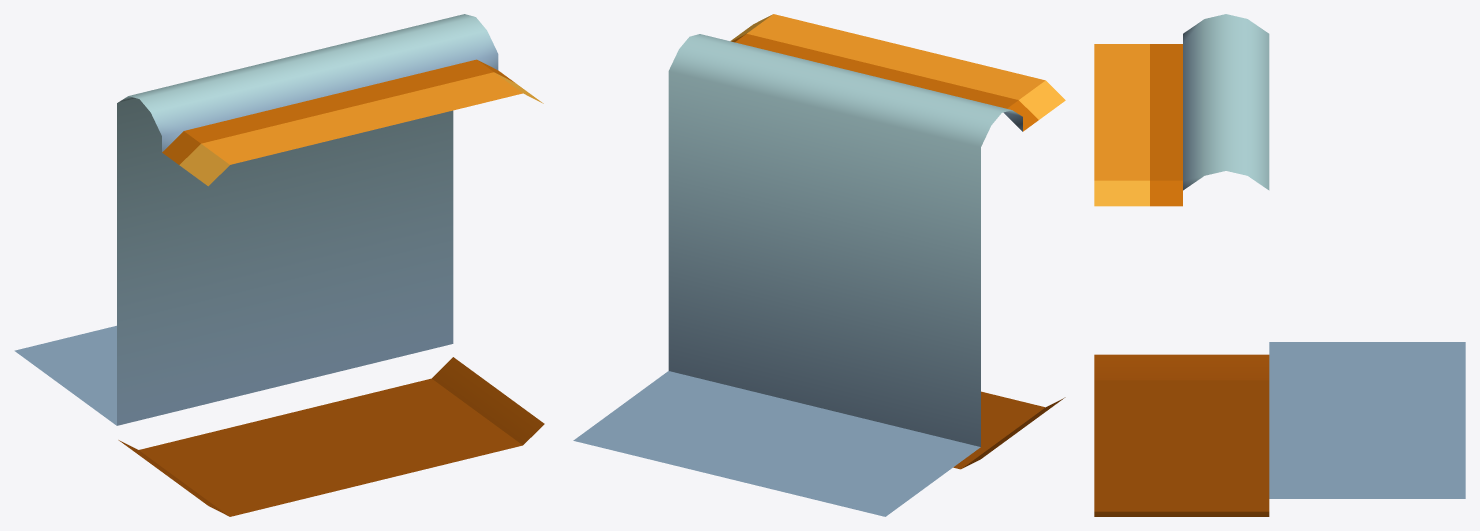
Rendered from mid_pool_1.fbx.
The picture shows the model from 3 angles, left to right: view 1: azimuth 30°, elevation 25°; view 2: azimuth 150°, elevation 25°; view 3: azimuth 270°, elevation 25°; orthographic projection. The views are drawn at different scales.
Parts seen in each view (by area): view 1: mid_pool_1; view 2: mid_pool_1; view 3: mid_pool_1.
Part boxes in pixels (box(x1,y1,x2,y2)): mid_pool_1: box(14, 14, 544, 516); mid_pool_1: box(573, 14, 1065, 516); mid_pool_1: box(1094, 14, 1465, 516).
Size of the model in its own units: 2 by 2.12 by 2.
